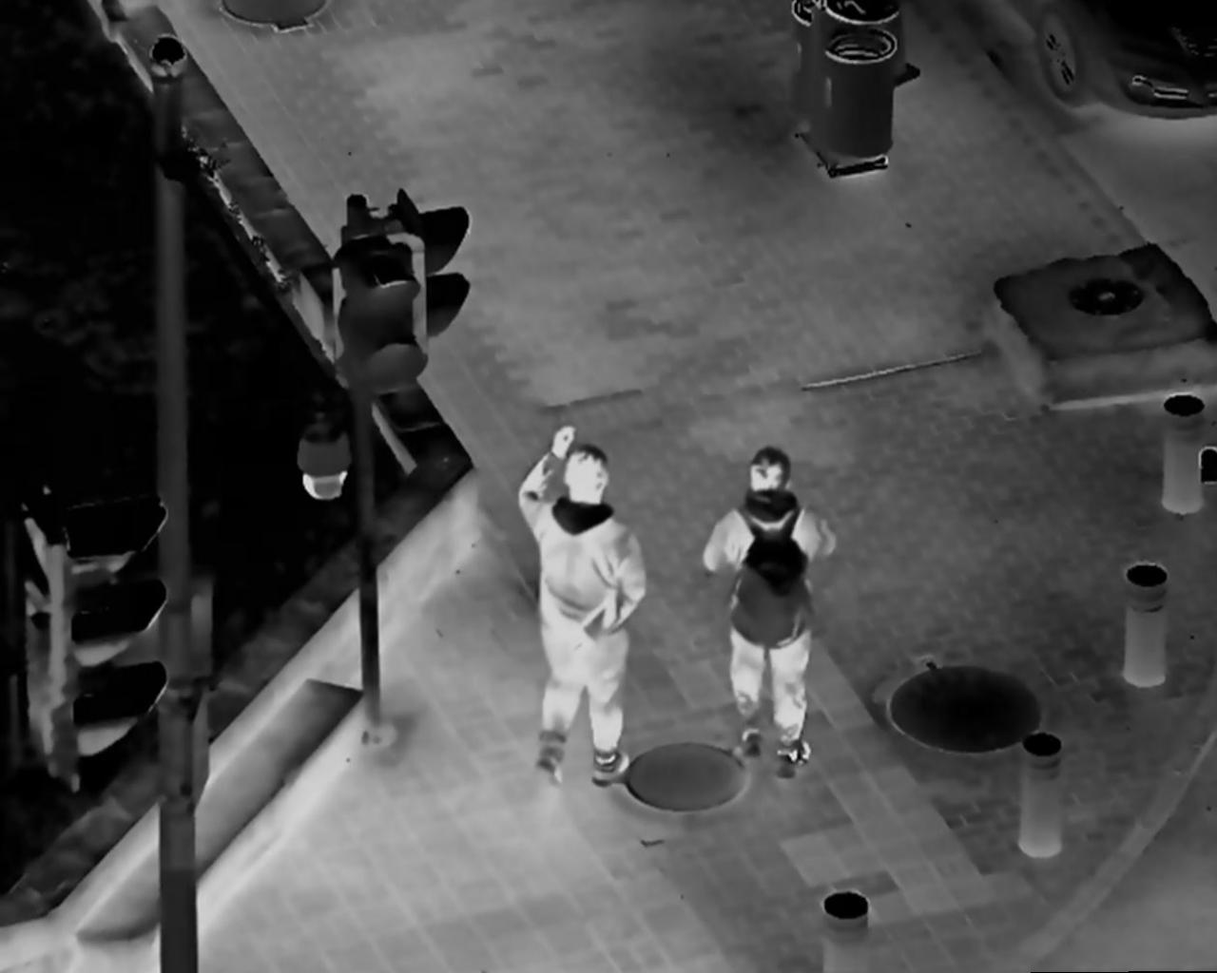person: (511, 422, 651, 792), (695, 444, 838, 778)
